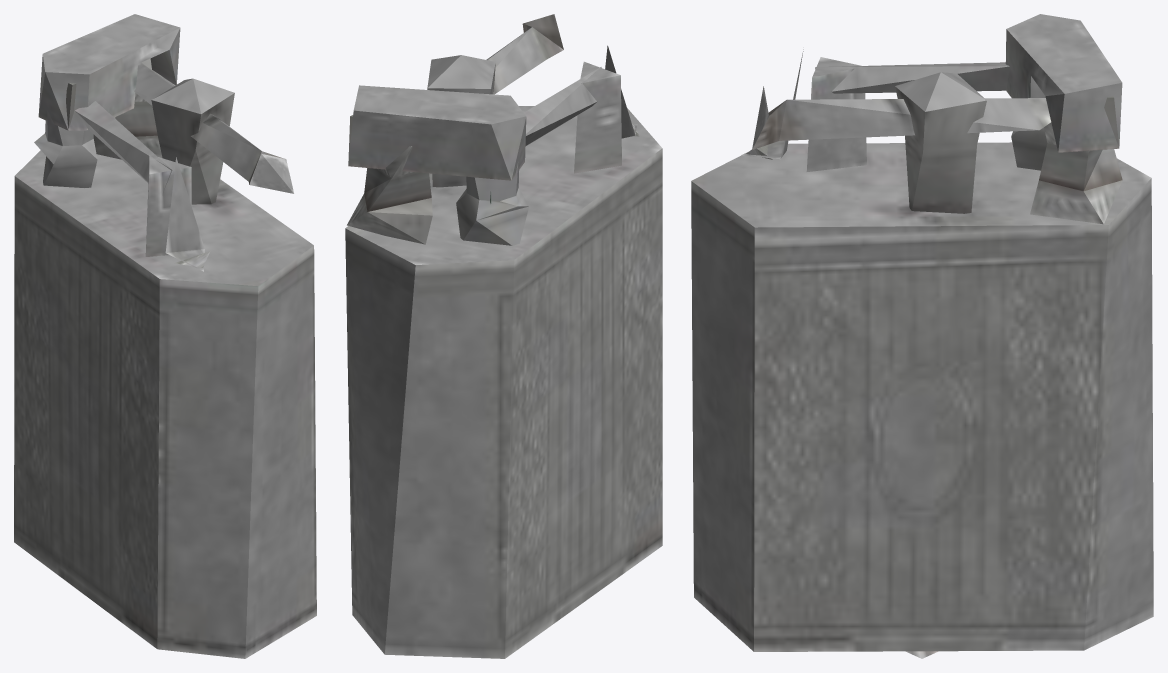
File: lighter-table.lod1.glb
3 renders of one model, left to right at view 1: azimuth 30°, elevation 25°; view 2: azimuth 150°, elevation 25°; view 3: azimuth 270°, elevation 25°, orthographic. The views are drawn at different scales.
Parts seen in each view (by area): view 1: lighter-table; view 2: lighter-table; view 3: lighter-table.
Boxes of the visible parts, x1,y1,x2,y2 form: lighter-table: (14,14,316,658); lighter-table: (345,14,662,658); lighter-table: (691,14,1153,658).
Bounding box in the file's own units: 0.0259 × 0.0797 × 0.0584.
Materials: 1 (1 with a texture image).
